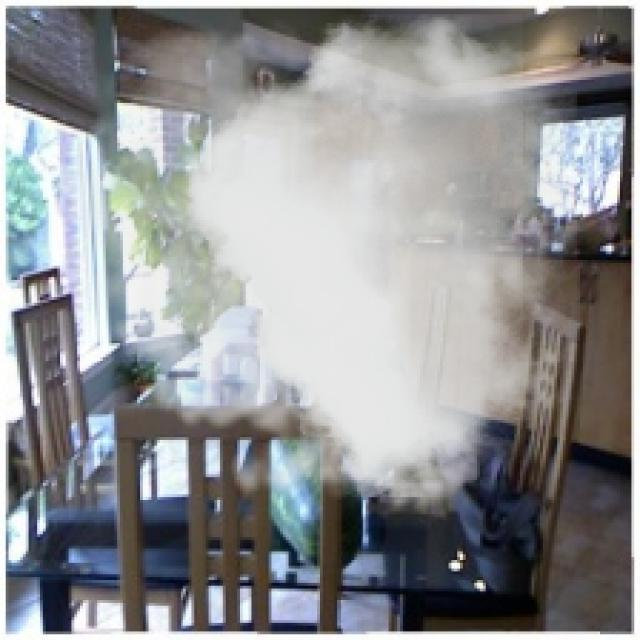Smoke: (49, 14, 578, 529)
